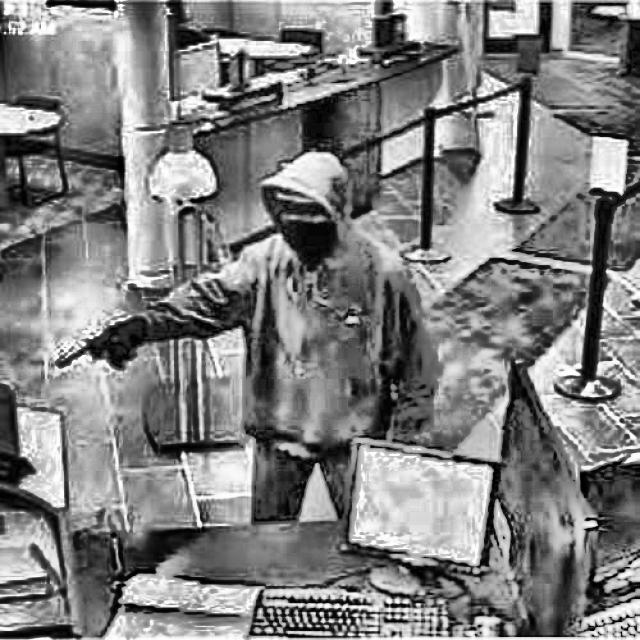robbery: (28, 136, 454, 538)
